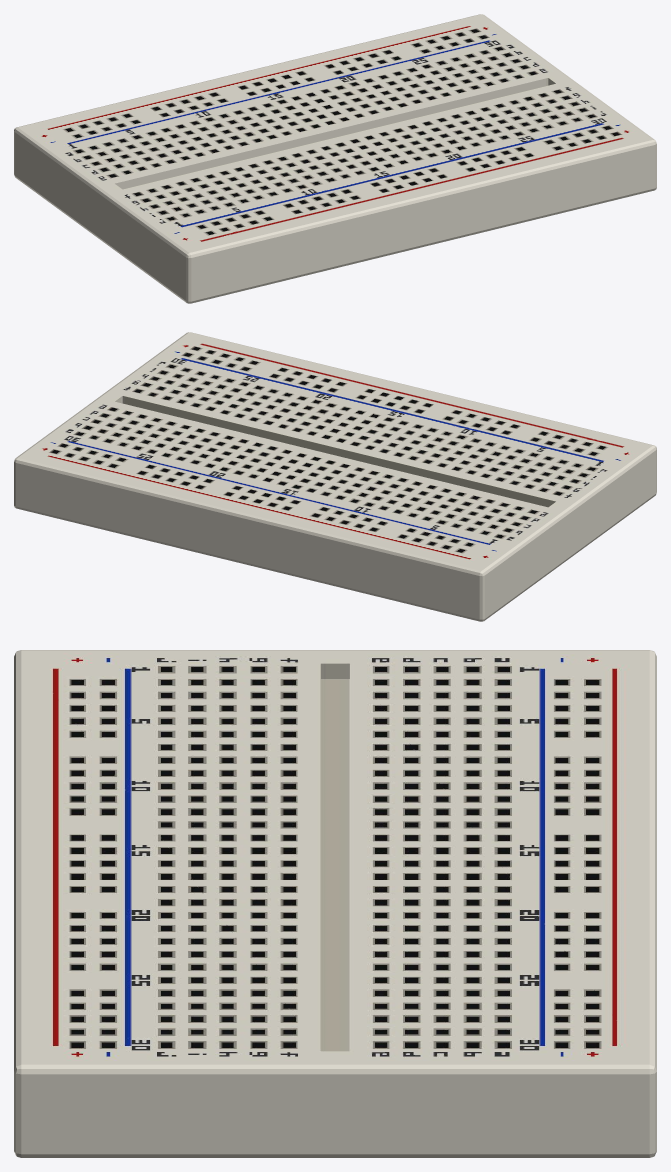
File: proto-board.glb
The picture shows the model from 3 angles, top to bottom: view 1: azimuth 30°, elevation 25°; view 2: azimuth 150°, elevation 25°; view 3: azimuth 270°, elevation 25°; orthographic projection. The views are drawn at different scales.
Parts seen in each view (by area): view 1: Body; view 2: Body; view 3: Body.
Part boxes in pixels (x1,y1,x2,y2): Body: (14,14,656,303); Body: (14,332,656,621); Body: (14,650,656,1157).
Bounding box in the file's own units: 0.0825 × 0.0085 × 0.0533.
1 material, 1 textured.
